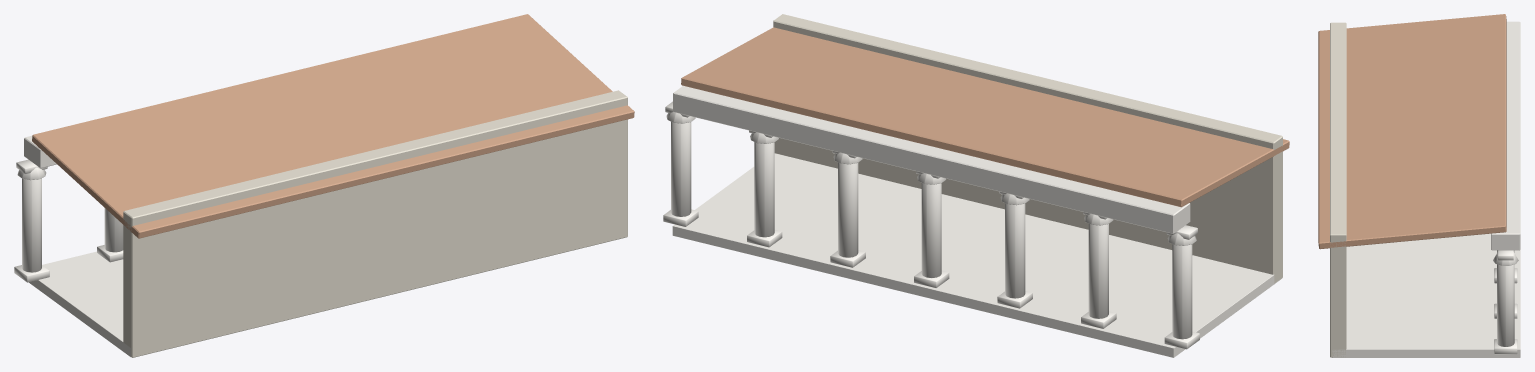
File: stoa_seg.glb
3 views of the same model, side by side, from view 1: azimuth 30°, elevation 25°; view 2: azimuth 150°, elevation 25°; view 3: azimuth 270°, elevation 25° (orthographic). The views are drawn at different scales.
Parts seen in each view (by area): view 1: backwall, stoa_roof, stoa_floor, stoa_col_0, stoa_col_1, entablature; view 2: stoa_floor, stoa_roof, backwall, entablature, stoa_col_0, stoa_col_6, stoa_col_1, stoa_col_2, stoa_col_3, stoa_col_4, stoa_col_5; view 3: stoa_roof, stoa_floor, backwall, entablature, stoa_col_6.
Part boxes in pixels (box(x1,y1,x2,y2)): backwall: box(123, 90, 627, 357); stoa_roof: box(32, 14, 634, 238); stoa_floor: box(29, 251, 131, 357); stoa_col_0: box(14, 159, 49, 282); stoa_col_1: box(97, 208, 123, 262); entablature: box(24, 135, 56, 168); stoa_floor: box(672, 153, 1282, 357); stoa_roof: box(681, 27, 1289, 207); backwall: box(773, 14, 1282, 283); entablature: box(673, 85, 1190, 233); stoa_col_0: box(1164, 225, 1199, 349); stoa_col_6: box(663, 101, 698, 226); stoa_col_1: box(1081, 212, 1116, 328); stoa_col_2: box(997, 191, 1032, 308); stoa_col_3: box(914, 171, 949, 287); stoa_col_4: box(830, 151, 865, 267); stoa_col_5: box(747, 130, 782, 247); stoa_roof: box(1318, 14, 1506, 249); stoa_floor: box(1332, 233, 1520, 357); backwall: box(1330, 22, 1346, 357); entablature: box(1491, 21, 1520, 250); stoa_col_6: box(1493, 250, 1518, 354).
Size of the model in its own units: 25.18 by 6.96 by 9.65.
